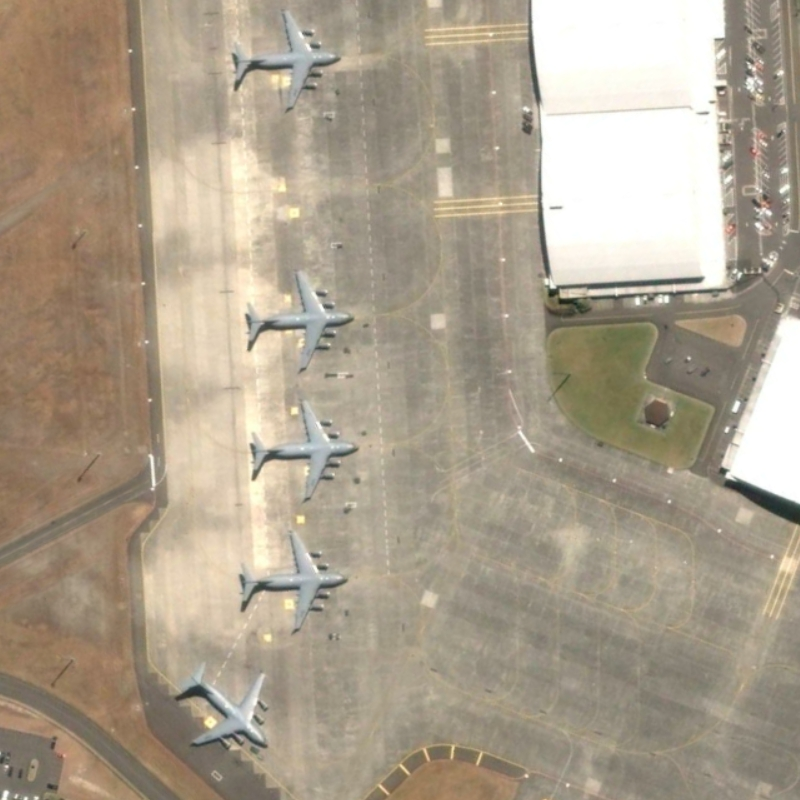A3: (220, 5, 343, 118), (234, 522, 352, 638), (237, 264, 354, 378), (243, 394, 360, 505), (169, 654, 276, 758)
